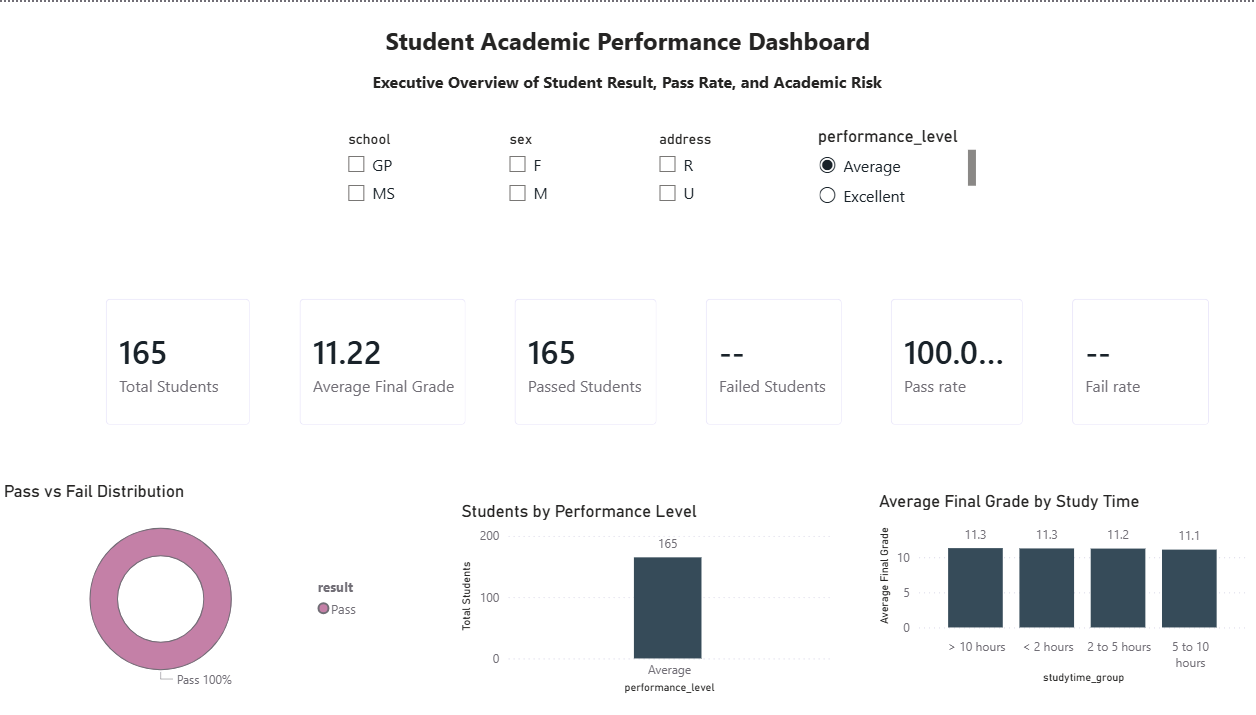

The page's visual inventory and layout, read from the dashboard file:
{"tool":"powerbi","page":{"name":"Executive Overview","canvas":[1280,720],"ordinal":0},"visuals":[{"type":"cardVisual","fields":{"Data":["vw_student_analysis.Total Students"]},"box":[90,280,178.8,160],"z":0,"group":"g1"},{"type":"cardVisual","fields":{"Data":["vw_student_analysis.Average Final Grade"]},"box":[283.8,280,200,160],"z":1000,"group":"g1"},{"type":"cardVisual","fields":{"Data":["vw_student_analysis.Passed Student"]},"box":[498.8,280,176.2,160],"z":2000,"group":"g1"},{"type":"cardVisual","fields":{"Data":["vw_student_analysis.Failed Student"]},"box":[690,280,170,160],"z":3000,"group":"g1"},{"type":"cardVisual","fields":{"Data":["vw_student_analysis.Pass rate"]},"box":[875,280,166.2,160],"z":4000,"group":"g1"},{"type":"cardVisual","fields":{"Data":["vw_student_analysis.Fail rate"]},"box":[1056.2,280,171.2,160],"z":5000,"group":"g1"},{"type":"textbox","box":[214.7,0,827.6,82],"z":6000},{"type":"textbox","box":[161.7,63.9,933.8,35],"z":7000},{"type":"donutChart","title":"Pass vs Fail Distribution","fields":{"Category":["vw_student_analysis.result"],"Y":["vw_student_analysis.Total Students"]},"box":[0,478.8,378.8,217.5],"z":8000},{"type":"columnChart","title":"Students by Performance Level","fields":{"Category":["vw_student_analysis.performance_level"],"Y":["vw_student_analysis.Total Students"]},"box":[457.5,498.8,378.8,197.5],"z":9000},{"type":"columnChart","title":"Average Final Grade by Study Time","fields":{"Category":["vw_student_analysis.studytime_group"],"Y":["vw_student_analysis.Average Final Grade"]},"box":[875,488.8,378.8,197.5],"z":10000},{"type":"slicer","fields":{"Values":["vw_student_analysis.school"]},"box":[336.2,123.8,115,95],"z":11000},{"type":"slicer","fields":{"Values":["vw_student_analysis.sex"]},"box":[497.5,123.8,115,95],"z":12000},{"type":"slicer","fields":{"Values":["vw_student_analysis.address"]},"box":[647.5,123.8,122.5,95],"z":13000},{"type":"listSlicer","fields":{"Values":["vw_student_analysis.performance_level"]},"box":[813.8,123.8,168.8,95],"z":14000},{"type":"group","id":"g1","title":"Groupe 1","box":[90,280,1137.5,160],"z":14001}]}

Visuals, with their boxes in screenshot pixels (x1, y1, x2, y2), scaled from the page's 1280x720 canvas onto the 1256x715 screenshot:
cardVisual - vw_student_analysis.Total Students: <region>88, 278, 264, 437</region>
cardVisual - vw_student_analysis.Average Final Grade: <region>278, 278, 475, 437</region>
cardVisual - vw_student_analysis.Passed Student: <region>489, 278, 662, 437</region>
cardVisual - vw_student_analysis.Failed Student: <region>677, 278, 844, 437</region>
cardVisual - vw_student_analysis.Pass rate: <region>859, 278, 1022, 437</region>
cardVisual - vw_student_analysis.Fail rate: <region>1036, 278, 1204, 437</region>
textbox: <region>211, 0, 1023, 81</region>
textbox: <region>159, 63, 1075, 98</region>
"Pass vs Fail Distribution" donutChart: <region>0, 475, 372, 691</region>
"Students by Performance Level" columnChart: <region>449, 495, 821, 691</region>
"Average Final Grade by Study Time" columnChart: <region>859, 485, 1230, 682</region>
slicer - vw_student_analysis.school: <region>330, 123, 443, 217</region>
slicer - vw_student_analysis.sex: <region>488, 123, 601, 217</region>
slicer - vw_student_analysis.address: <region>635, 123, 756, 217</region>
listSlicer - vw_student_analysis.performance_level: <region>799, 123, 964, 217</region>
"Groupe 1" group: <region>88, 278, 1204, 437</region>
